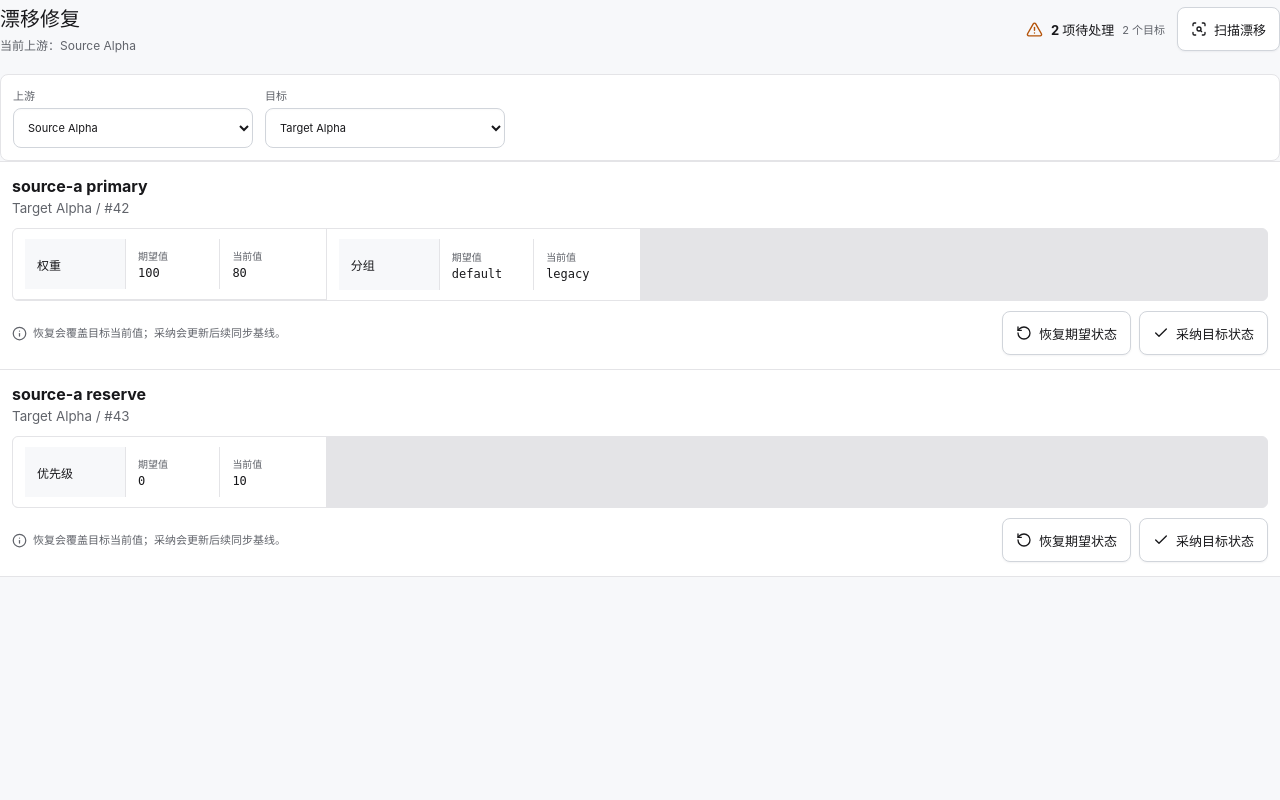
Scenario: drift repair workflow › confirms accepting target state and revalidates instead of clearing local drift
The width and height of the screenshot is (1280, 800).
Click the button with aria-label "采纳 source-a primary 在 Target Alpha 的目标状态": (1204, 333) x1=1139 y1=311 x2=1268 y2=355
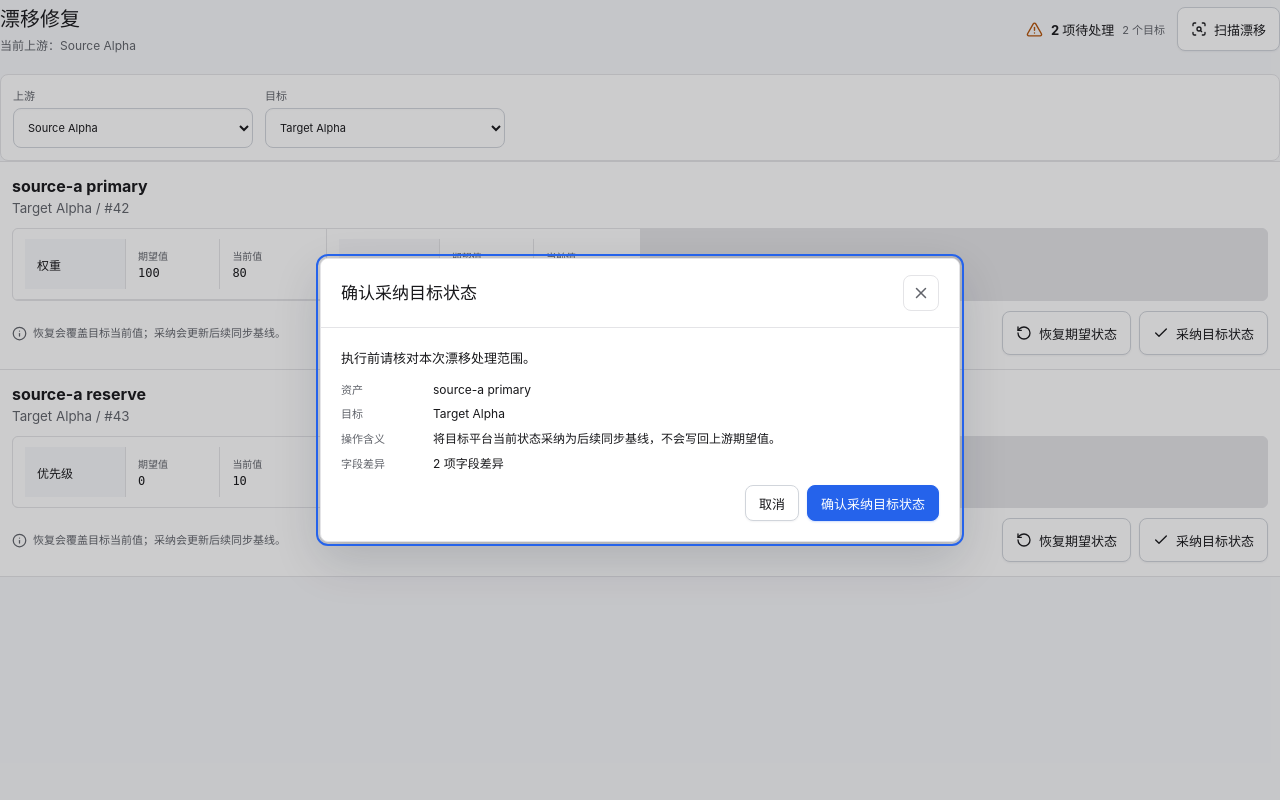
Now the dialog "确认采纳目标状态" shows "source-a primary", box x1=433 y1=382 x2=531 y2=397
Now the dialog "确认采纳目标状态" shows "Target Alpha", box x1=433 y1=406 x2=505 y2=421
Now the dialog "确认采纳目标状态" shows "将目标平台当前状态采纳为后续同步基线，不会写回上游期望值。", box x1=433 y1=431 x2=781 y2=446
Click the button "确认采纳目标状态": (873, 503) x1=807 y1=485 x2=939 y2=521
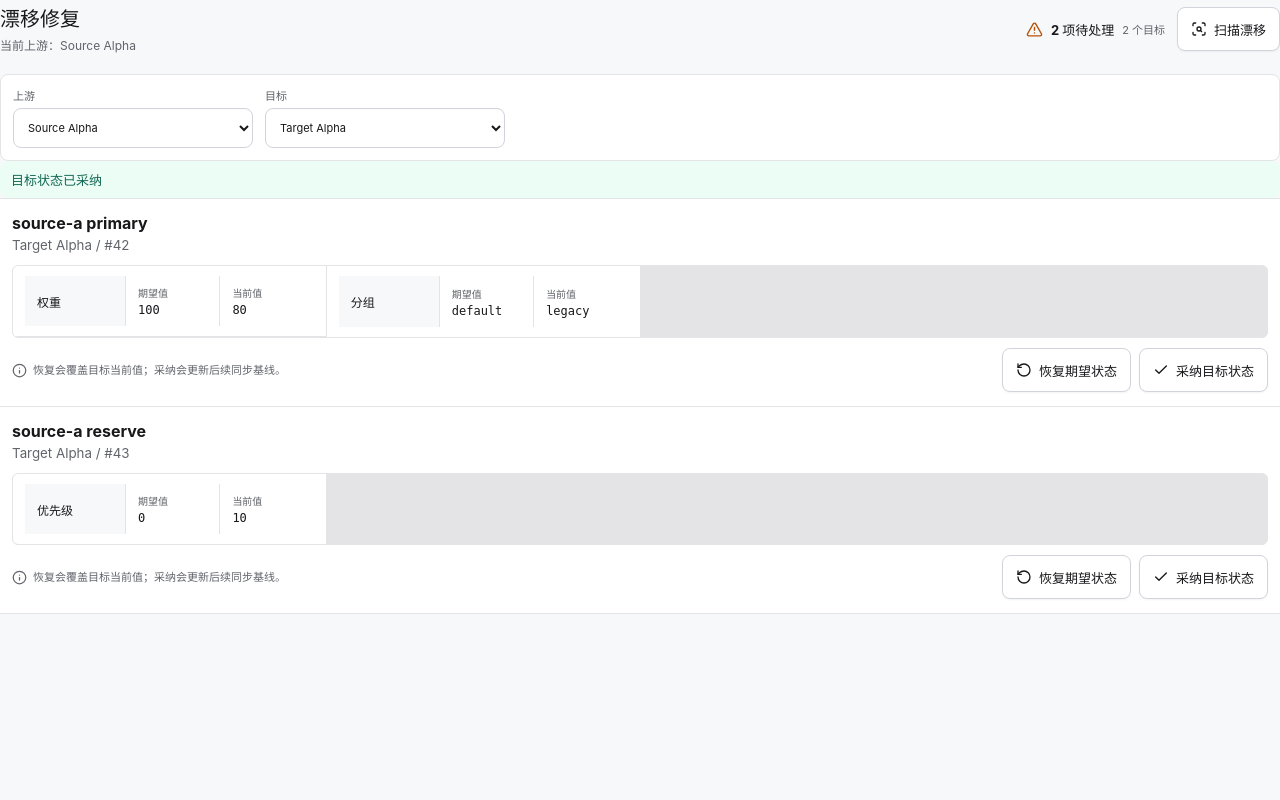
Now the message reads "目标状态已采纳", box x1=11 y1=172 x2=102 y2=188
